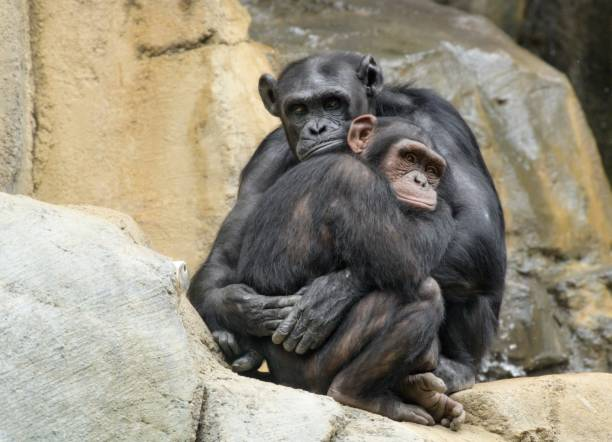chimpanzee: (248, 46, 399, 195), (344, 110, 449, 240)
